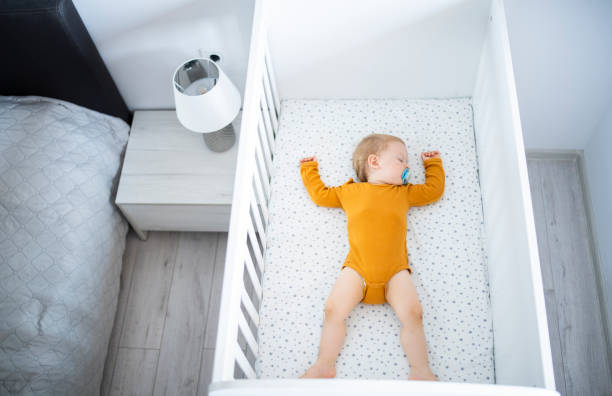baby: (300, 134, 444, 379)
crib: (209, 0, 556, 394)
